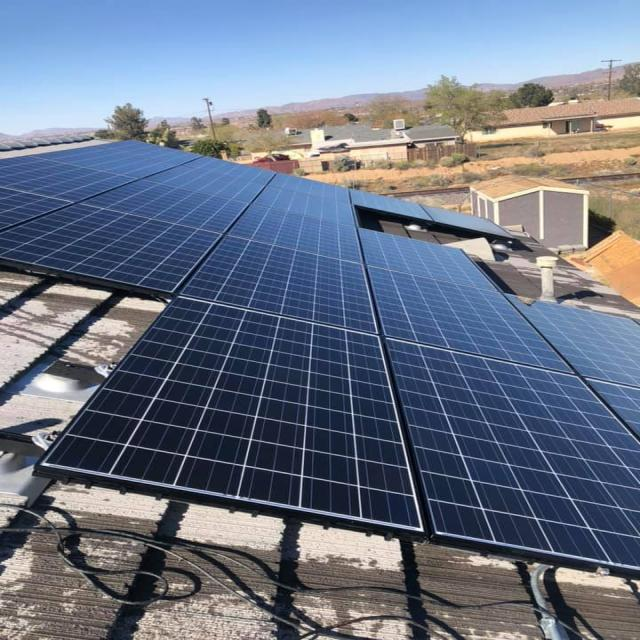clean-solar-panel: (2, 141, 638, 572)
